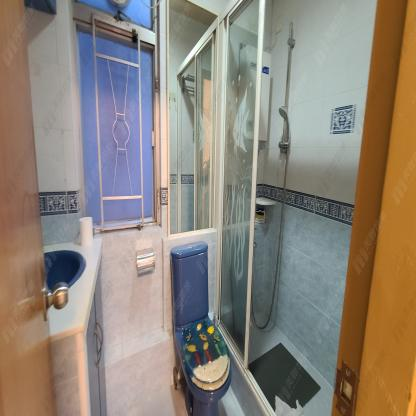Toilet: (170, 243, 231, 416)
Toilet Sink: (44, 246, 87, 291)
Water Heater: (238, 45, 272, 142)
